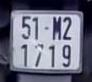1: (20, 43, 29, 69), (48, 44, 56, 68), (33, 16, 40, 41)
2: (62, 16, 73, 42)
5: (20, 13, 32, 40)
7: (34, 42, 44, 67)
9: (60, 44, 72, 68)
M: (51, 14, 62, 42)
